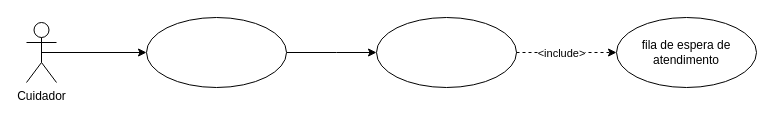
Some shapes in this 774 by 121 pixel diagram are drawn without their labels. Each missing label, with the centre of its shape:
"Login" goes at (216,52).
"Validar area" goes at (446,52).
